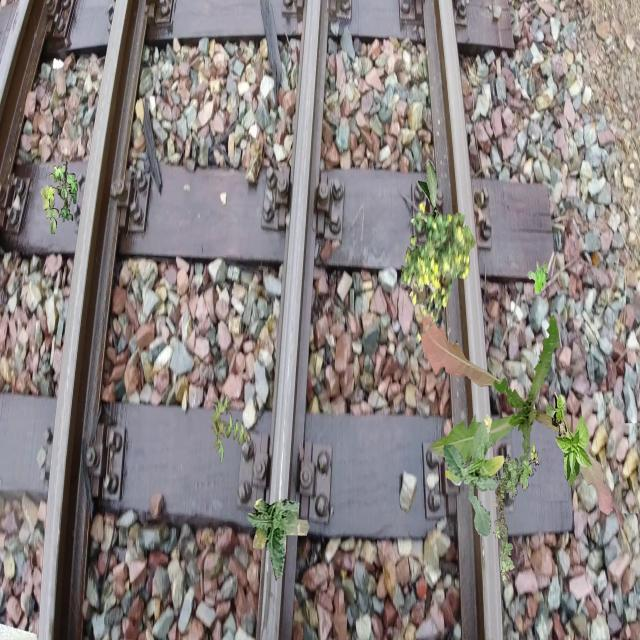Plant: (420, 313, 612, 516), (401, 202, 476, 342), (443, 414, 506, 538), (491, 445, 540, 583), (247, 499, 310, 582), (546, 391, 594, 486), (411, 160, 451, 270), (210, 394, 252, 466), (41, 161, 78, 234), (527, 262, 548, 295)
